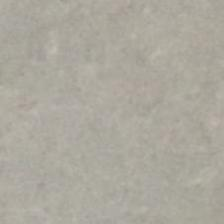Crack: (17, 30, 194, 185)
